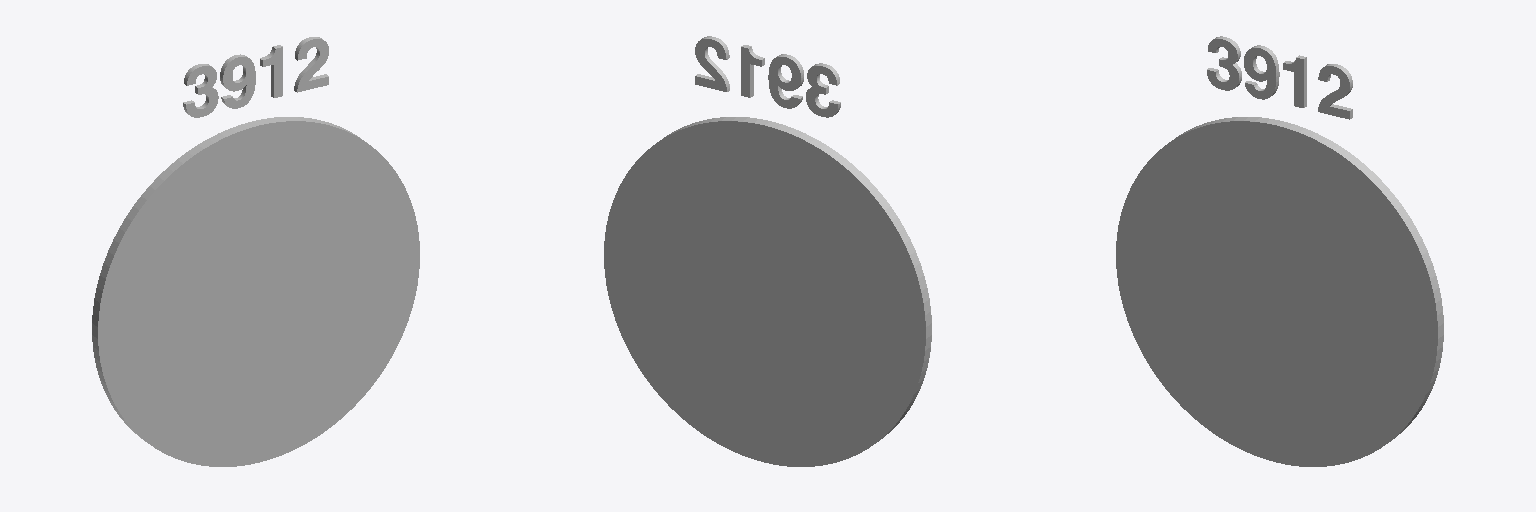
File: TAZO_CODIGO_3912.obj
3 views of the same model, side by side, from view 1: azimuth 30°, elevation 25°; view 2: azimuth 150°, elevation 25°; view 3: azimuth 330°, elevation 25° (orthographic).
Visible parts, largest first — view 1: CARA_FRONTAL, 3912, EXTRUDE; view 2: CARA_TRASERA, 3912, EXTRUDE; view 3: CARA_FRONTAL, 3912, EXTRUDE.
Boxes of the visible parts, x1,y1,x2,y2 form: CARA_FRONTAL: [98, 121, 419, 466]; 3912: [183, 37, 328, 117]; EXTRUDE: [92, 117, 366, 441]; CARA_TRASERA: [604, 121, 925, 466]; 3912: [695, 36, 840, 117]; EXTRUDE: [657, 117, 931, 441]; CARA_FRONTAL: [1116, 121, 1437, 466]; 3912: [1207, 36, 1352, 119]; EXTRUDE: [1169, 117, 1443, 441].
Size of the model in its own units: 3002 by 3644 by 98.07.